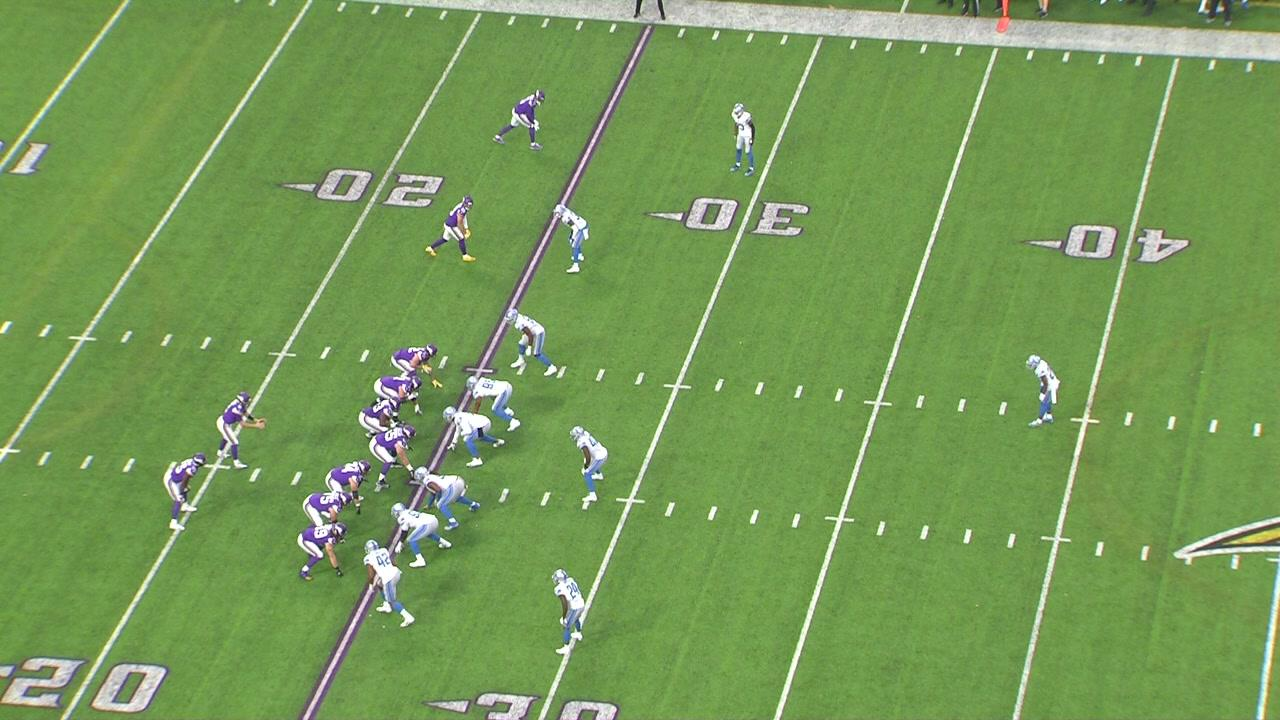player: (359, 538, 416, 629), (412, 463, 482, 533), (212, 389, 269, 472), (389, 501, 453, 569), (441, 405, 506, 470), (423, 193, 480, 265), (162, 449, 210, 533), (503, 306, 559, 378), (490, 86, 549, 152), (549, 567, 589, 658), (295, 521, 349, 585), (368, 424, 420, 490), (464, 374, 522, 433), (568, 423, 609, 505), (1023, 353, 1062, 430), (553, 202, 591, 276), (389, 342, 445, 391), (324, 457, 371, 515), (371, 374, 425, 422), (729, 101, 758, 179), (357, 394, 403, 439), (302, 488, 353, 527)
